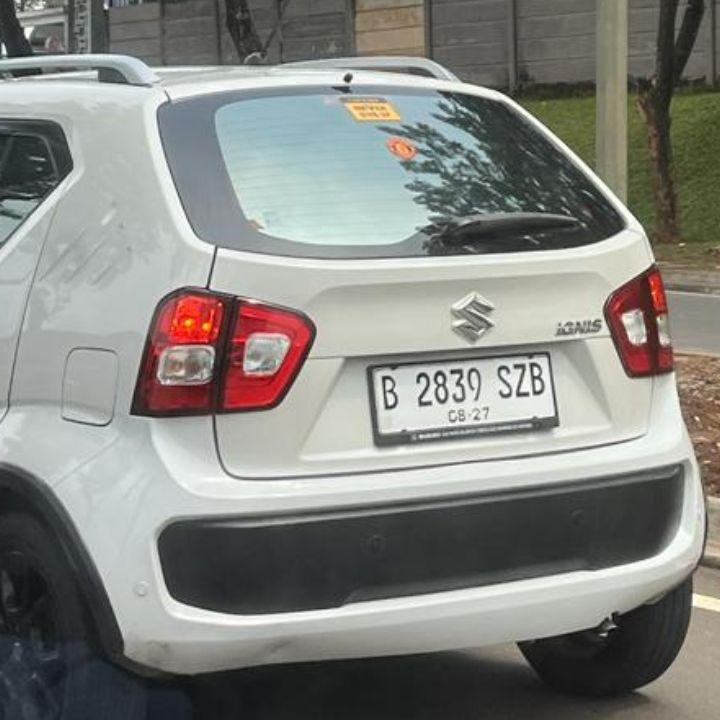plat: (371, 353, 558, 444)
